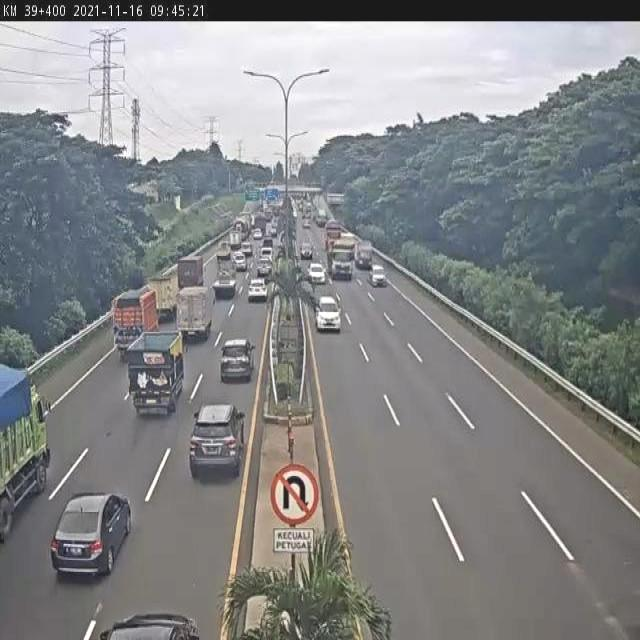Car: (48, 489, 138, 588), (190, 401, 243, 494), (219, 338, 255, 386), (315, 297, 343, 338), (248, 276, 270, 304), (366, 263, 391, 287), (308, 262, 326, 286), (229, 254, 246, 276), (256, 258, 273, 278), (214, 240, 230, 261), (302, 242, 314, 260), (242, 240, 253, 256), (252, 226, 262, 241)
Truck: (0, 360, 55, 540), (129, 325, 186, 421), (110, 286, 161, 360), (180, 287, 215, 343), (147, 274, 178, 321), (328, 238, 354, 282), (178, 255, 205, 293), (213, 261, 236, 302), (323, 222, 342, 250), (356, 242, 374, 270)
Van: (260, 246, 274, 262)
